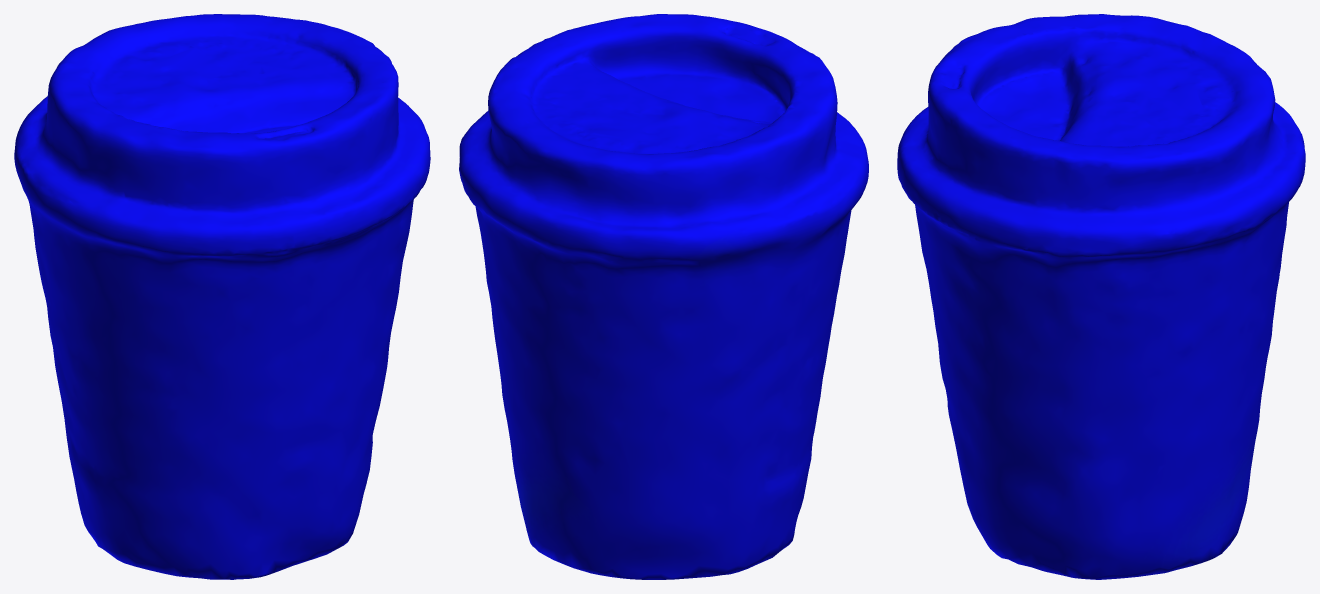
3 views of the same model, side by side, from view 1: azimuth 30°, elevation 25°; view 2: azimuth 150°, elevation 25°; view 3: azimuth 270°, elevation 25° (orthographic). The views are drawn at different scales.
Visible parts, largest first — view 1: Mesh_0; view 2: Mesh_0; view 3: Mesh_0.
Boxes of the visible parts, x1,y1,x2,y2 form: Mesh_0: (14,14,430,579); Mesh_0: (459,14,868,579); Mesh_0: (897,14,1305,579).
Size of the model in its own units: 0.0896 by 0.1068 by 0.0889.
1 material, 1 textured.
